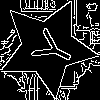Y: (22, 22, 78, 73)
